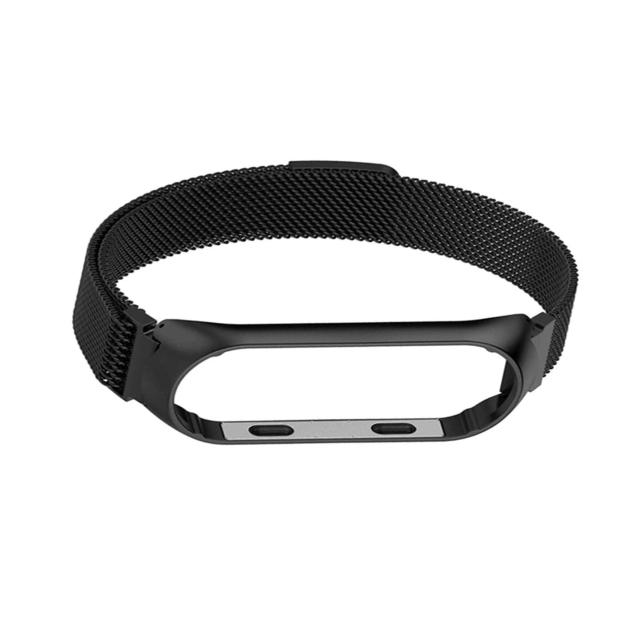bracelet: (0, 116, 640, 481)
